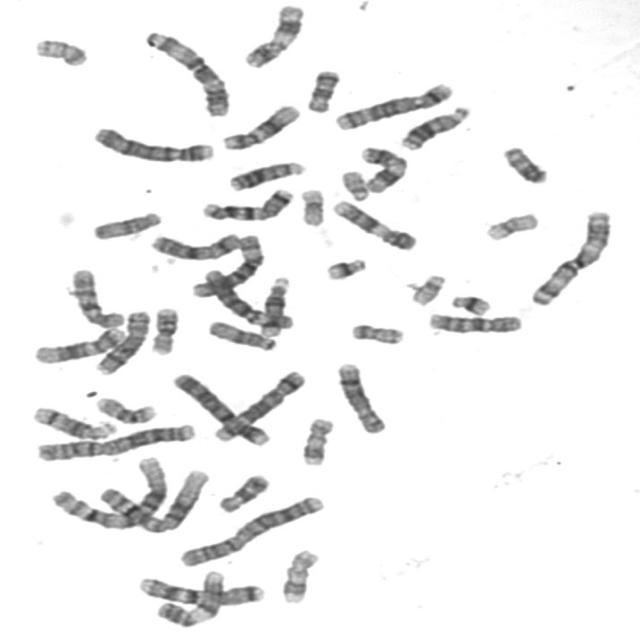A1: (55, 462, 215, 533), (45, 451, 172, 532)
A2: (174, 490, 329, 569), (29, 418, 197, 463)
A3: (523, 205, 615, 307), (138, 25, 234, 118)
B4: (167, 368, 273, 448), (86, 121, 218, 164)
B5: (208, 365, 308, 443), (328, 77, 457, 132)
C10: (63, 263, 128, 330), (421, 308, 525, 336)
C11: (236, 0, 307, 69), (354, 142, 409, 194)
C12: (215, 99, 303, 152), (28, 323, 128, 365)
C6: (196, 265, 294, 332), (186, 228, 267, 299)
C7: (134, 572, 267, 607), (196, 182, 296, 222)
C8: (330, 357, 389, 435), (89, 306, 153, 376)
C9: (326, 194, 419, 252), (149, 564, 229, 629)
D13: (395, 100, 473, 152), (223, 156, 308, 192)
D14: (26, 401, 118, 441), (253, 272, 293, 339)
D15: (202, 315, 281, 353), (86, 206, 165, 241)
E16: (89, 392, 159, 425), (145, 302, 181, 356)
E17: (275, 544, 322, 606), (296, 412, 336, 468)
E18: (212, 468, 272, 514), (300, 64, 343, 114)
F19: (478, 208, 542, 242), (294, 183, 328, 228)
F20: (28, 33, 90, 67), (345, 318, 407, 347)
G21: (318, 252, 369, 282), (444, 290, 494, 318)
G22: (404, 269, 448, 307), (335, 165, 371, 202)
X: (144, 227, 242, 262)
